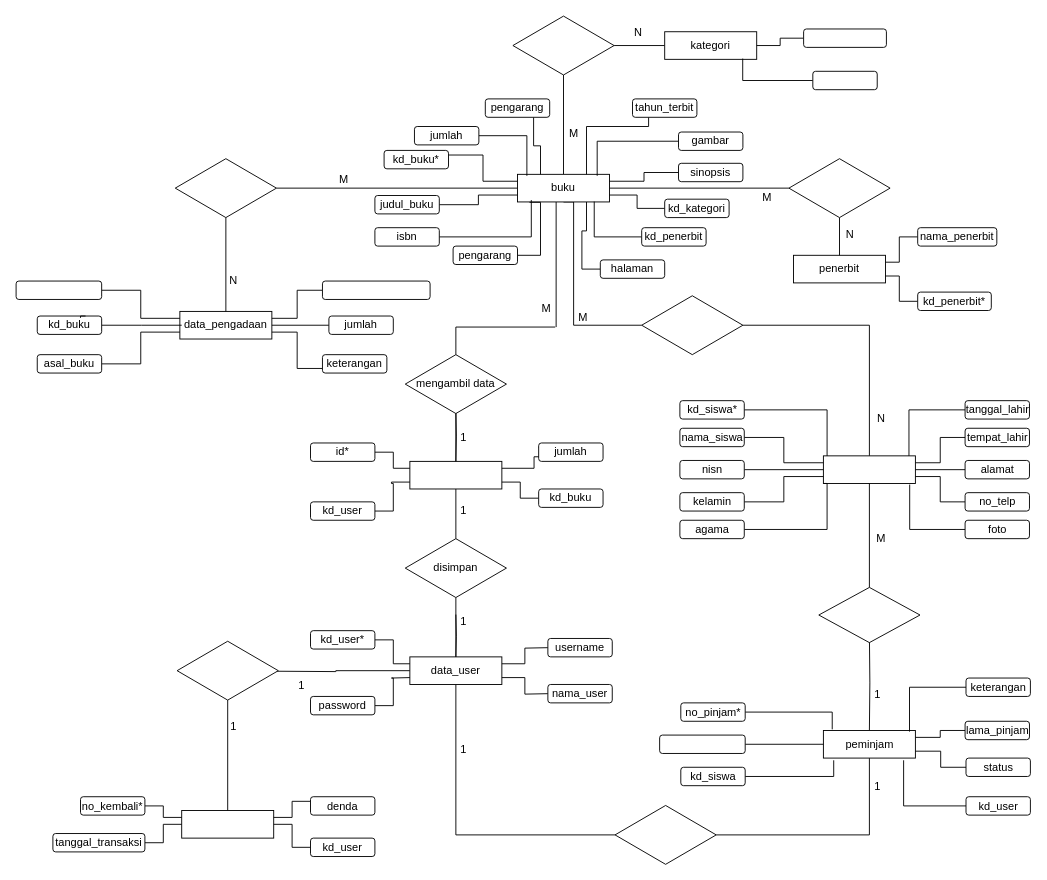
Some shapes in this 1047 by 880 pixel diagram are drawn without their labels. The shapes that lost their labels are listed below. From the top down, each one's centre as x and y in pixels, then its label:
At [563,45]: "dipisahkan".
At [844,37]: "nama_kategori".
At [844,80]: "kd_kategori*".
At [225,188]: "diterima/ disumbangkan".
At [839,188]: "diterbitkan".
At [58,289]: "no_pengadaan*".
At [376,289]: "tanggal_pengadaan".
At [692,325]: "dipinjam".
At [455,474]: "tmp_pinjam".
At [868,469]: "data_siswa".
At [869,614]: "transaksi pinjaman".
At [227,670]: "melakukan".
At [702,743]: "tanggal_pimjam".
At [227,824]: "pengembalian".
At [665,834]: "melalui".
